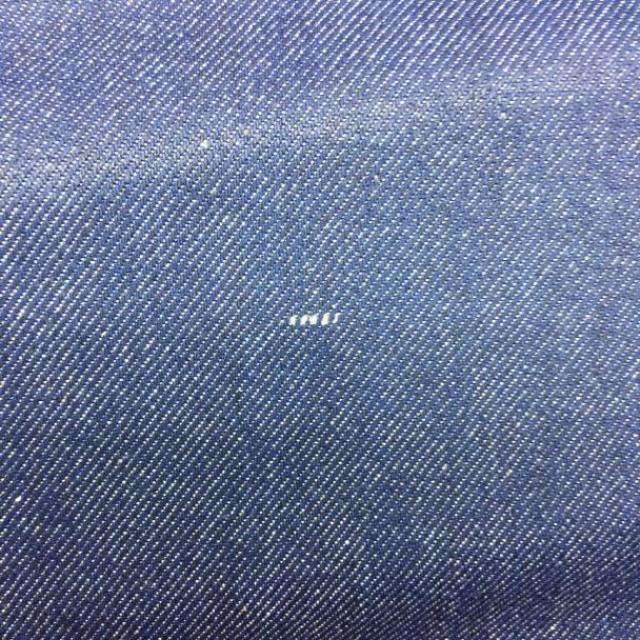Knot: (288, 314, 341, 327)
